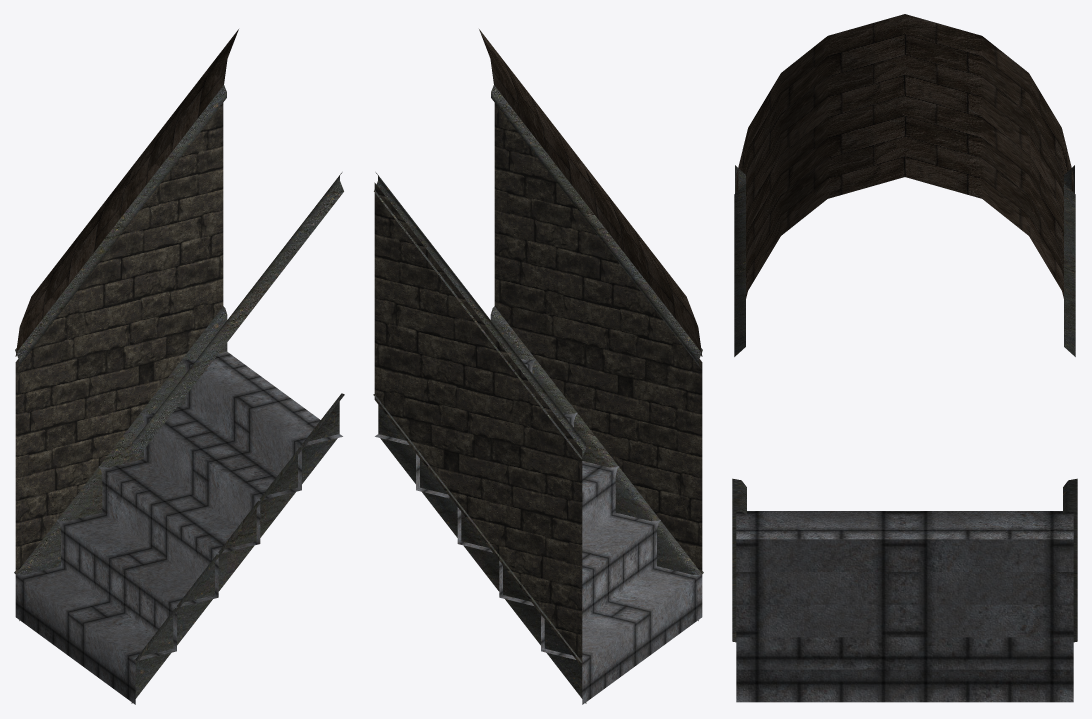
The model's file is Stairs.fbx.
The picture shows the model from 3 angles, left to right: view 1: azimuth 30°, elevation 25°; view 2: azimuth 150°, elevation 25°; view 3: azimuth 270°, elevation 25°; orthographic projection. The views are drawn at different scales.
Parts seen in each view (by area): view 1: Cube, Plane_001, Plane_002, Plane_006, Plane_004, Plane_007, Plane_003; view 2: Plane_001, Plane_005, Cube, Plane_002, Plane_004, Plane_006, Plane_007, Plane_003; view 3: Cube, Plane_002, Plane_007, Plane_003, Plane_006, Plane_004.
Boxes of the visible parts, <box> form: Cube: <box>15,351,342,704</box>; Plane_001: <box>15,103,223,573</box>; Plane_002: <box>15,29,238,356</box>; Plane_006: <box>131,393,344,703</box>; Plane_004: <box>14,306,227,620</box>; Plane_007: <box>132,172,343,459</box>; Plane_003: <box>15,85,226,368</box>; Plane_001: <box>374,182,582,667</box>; Plane_005: <box>494,103,702,573</box>; Cube: <box>375,359,702,704</box>; Plane_002: <box>479,29,702,356</box>; Plane_004: <box>373,394,586,703</box>; Plane_006: <box>490,306,703,620</box>; Plane_007: <box>491,85,702,368</box>; Plane_003: <box>374,172,585,459</box>; Cube: <box>736,511,1073,702</box>; Plane_002: <box>736,14,1073,298</box>; Plane_007: <box>734,165,745,356</box>; Plane_003: <box>1064,165,1075,356</box>; Plane_006: <box>732,478,746,642</box>; Plane_004: <box>1063,478,1077,642</box>.
Bounding box in the file's own units: 2 × 5.46 × 2.05.
